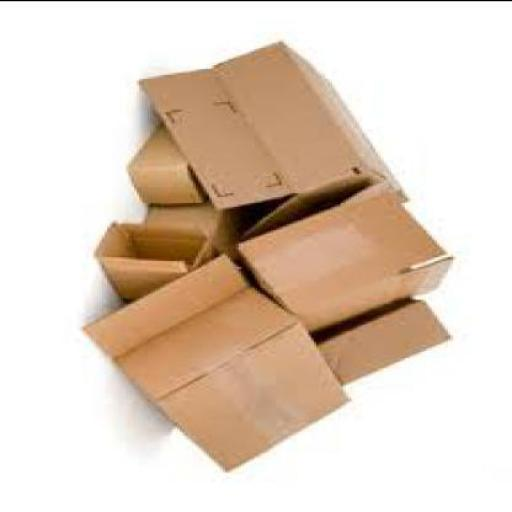cardboard: (83, 254, 354, 473), (137, 43, 412, 243), (239, 185, 455, 337), (316, 300, 453, 384), (96, 219, 220, 307), (131, 120, 212, 206), (142, 206, 244, 262)
